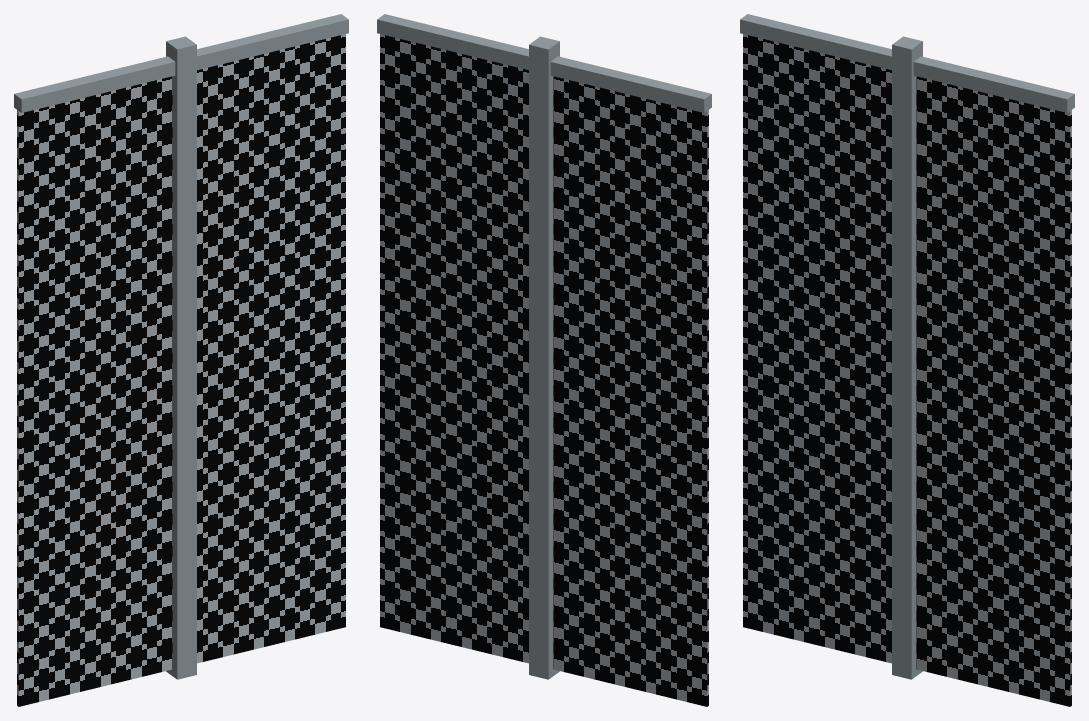
Rendered from t_chainfence.glb.
3 views of the same model, side by side, from view 1: azimuth 30°, elevation 25°; view 2: azimuth 150°, elevation 25°; view 3: azimuth 330°, elevation 25° (orthographic).
Visible parts, largest first — view 1: block_mesh, block_post, block_top-rail; view 2: block_mesh, block_post, block_top-rail; view 3: block_mesh, block_post, block_top-rail.
Part boxes in pixels (bbox=[...]): block_mesh: bbox=[17, 34, 345, 706]; block_post: bbox=[166, 36, 196, 679]; block_top-rail: bbox=[14, 14, 348, 112]; block_mesh: bbox=[380, 34, 708, 706]; block_post: bbox=[529, 36, 559, 679]; block_top-rail: bbox=[377, 14, 711, 112]; block_mesh: bbox=[743, 34, 1071, 706]; block_post: bbox=[892, 36, 922, 679]; block_top-rail: bbox=[740, 14, 1074, 112].
Bounding box in the file's own units: 1 × 1.84 × 0.06.
2 materials, 2 textured.
